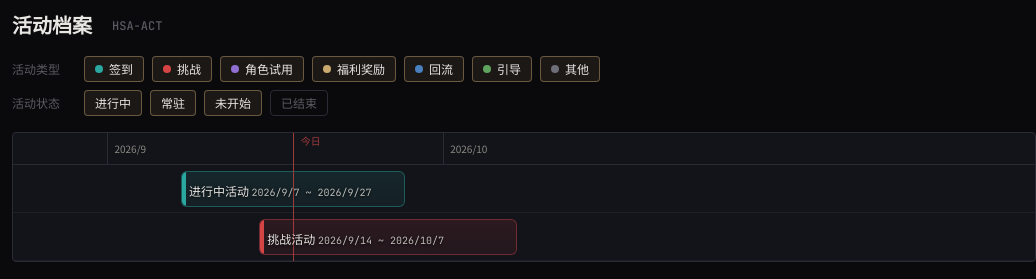
ActivityArchive › hides ongoing rows when ongoing status chip is toggled off
What coordinates should you click on to do the following:
click the button "进行中"
I would click on:
 (113, 103)
Its box is x1=84 y1=90 x2=142 y2=116.
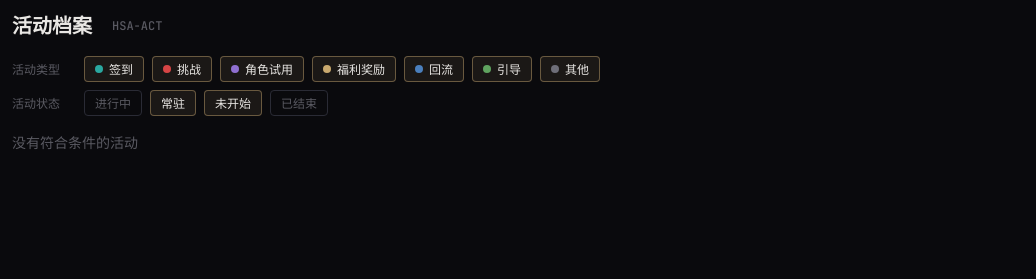
Result: the text "进行中活动" is gone
Result: the text "挑战活动" is gone
Result: the text "没有符合条件的活动" is shown at x1=12 y1=132 x2=138 y2=152
